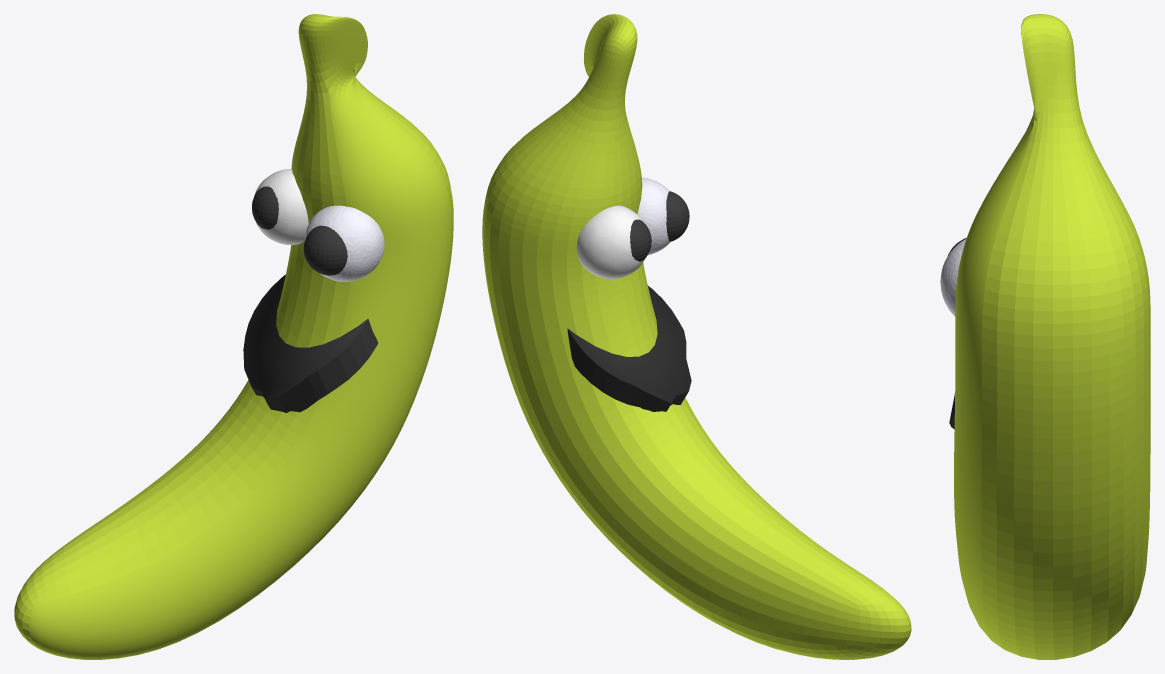
The model's file is fbananab.glb.
3 views of the same model, side by side, from view 1: azimuth 30°, elevation 25°; view 2: azimuth 150°, elevation 25°; view 3: azimuth 270°, elevation 25° (orthographic). The views are drawn at different scales.
Visible parts, largest first — view 1: Cube, Circle, Icosphere.001, Icosphere, Sphere, Sphere.001; view 2: Cube, Circle, Icosphere, Icosphere.001, Sphere, Sphere.001; view 3: Cube, Icosphere.001.
Part boxes in pixels (left/top/right/bottom): Cube: left=14, top=14, right=453, bottom=659; Circle: left=243, top=274, right=378, bottom=412; Icosphere.001: left=305, top=205, right=384, bottom=281; Icosphere: left=254, top=169, right=308, bottom=244; Sphere: left=303, top=225, right=347, bottom=275; Sphere.001: left=252, top=186, right=278, bottom=229; Cube: left=482, top=14, right=911, bottom=659; Circle: left=567, top=286, right=691, bottom=411; Icosphere: left=576, top=205, right=645, bottom=279; Icosphere.001: left=637, top=177, right=669, bottom=254; Sphere: left=666, top=191, right=689, bottom=241; Sphere.001: left=630, top=219, right=651, bottom=261; Cube: left=954, top=14, right=1150, bottom=659; Icosphere.001: left=940, top=238, right=966, bottom=316.
Size of the model in its own units: 3.43 by 4.58 by 1.19.
